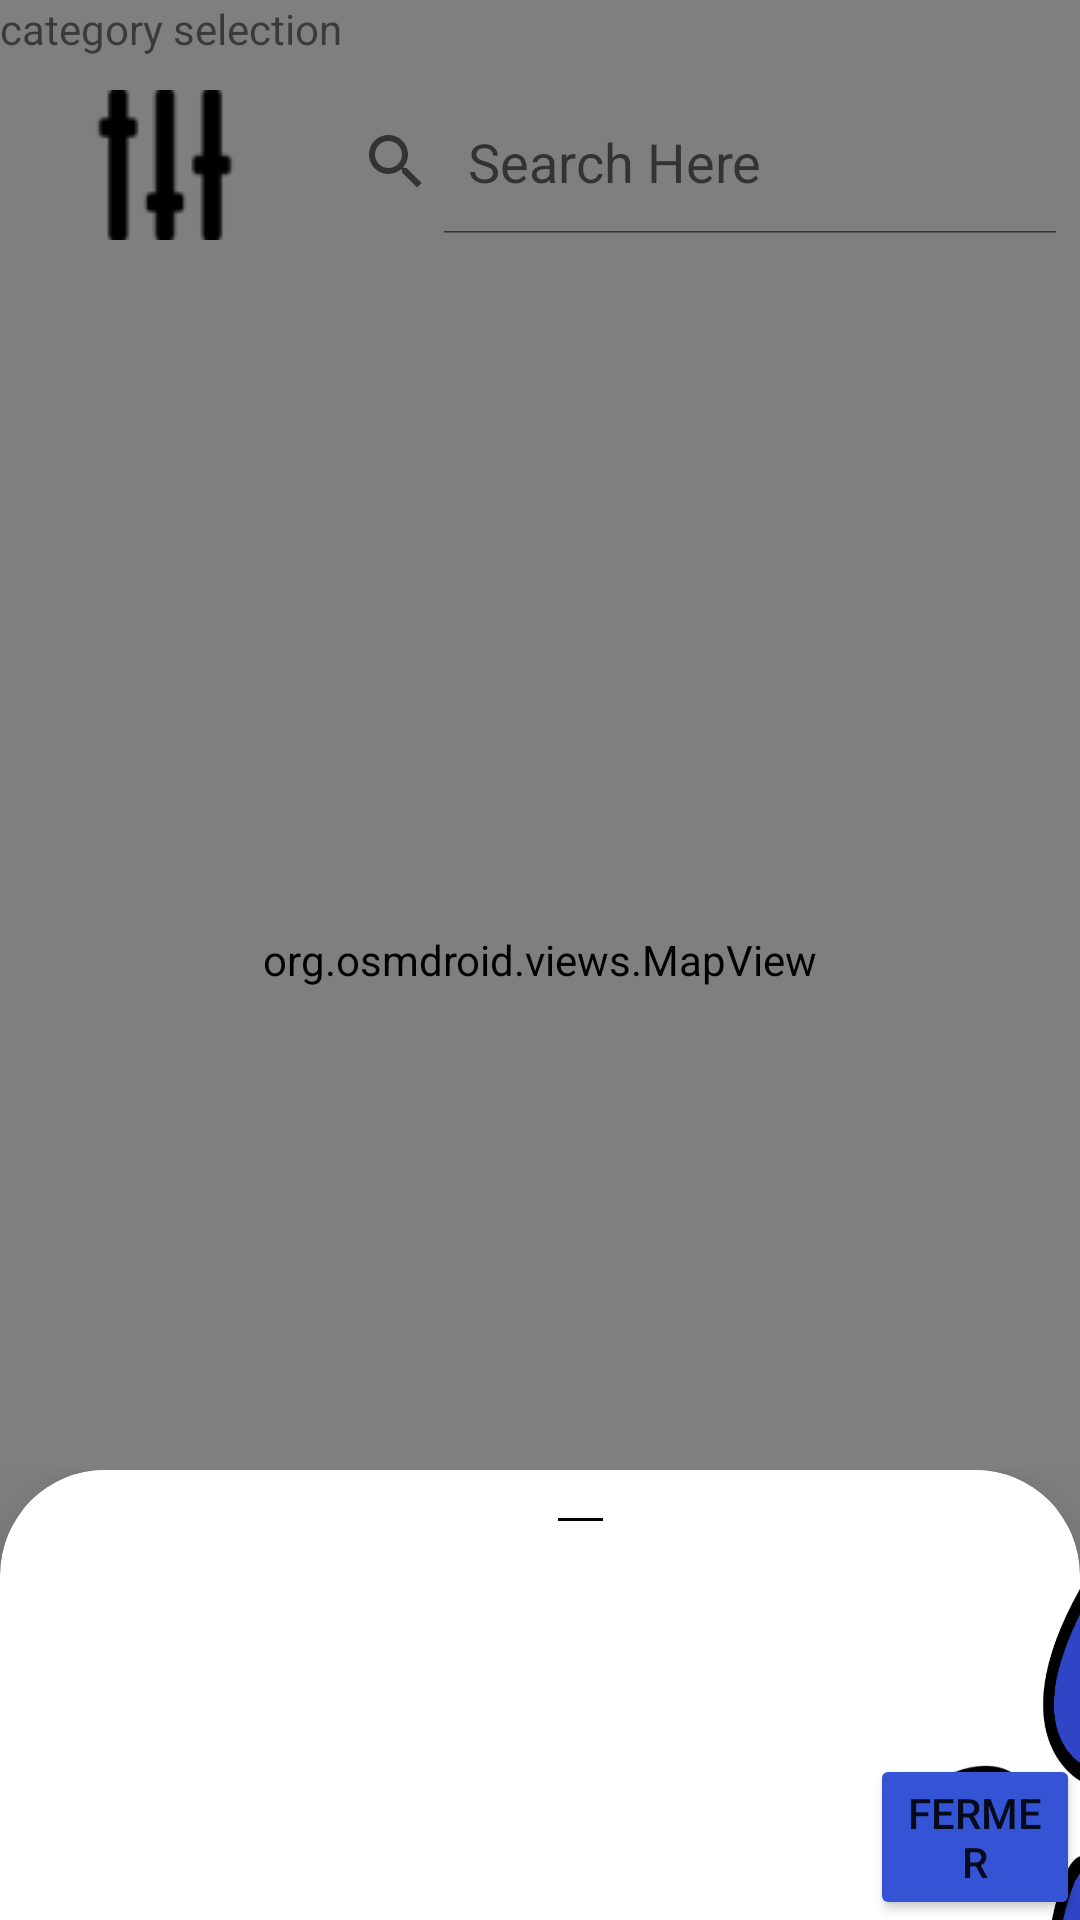

Icon bounding boxes for this 1080w x 1920h phone screenshot, format (x1, y1, x2, y2):
settings: (98, 90, 232, 240)
